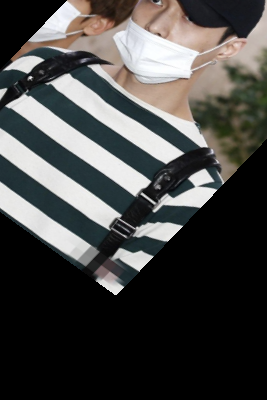mask_weared_incorrect: (89, 1, 262, 87)
